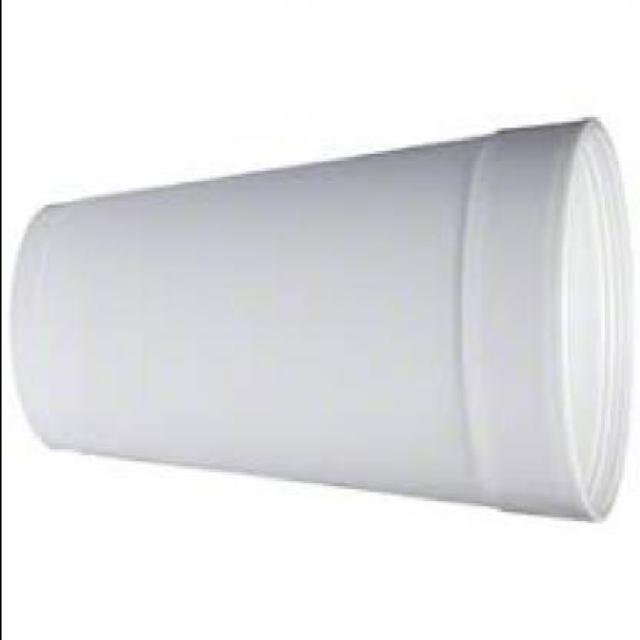PAPER: (11, 114, 632, 517)
